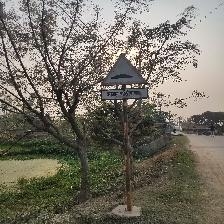Speed-breaker: (97, 47, 152, 107)
